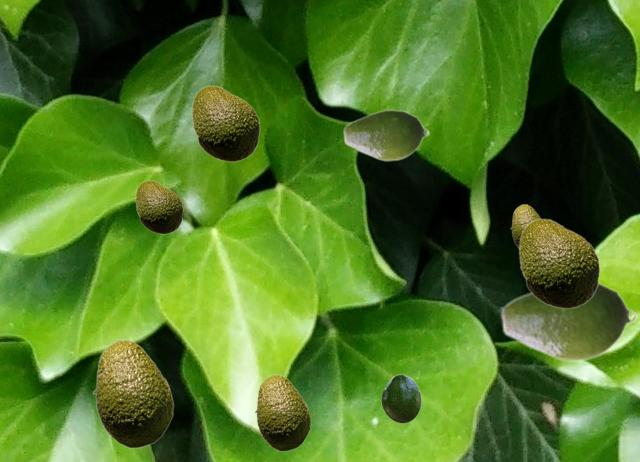avocado: (499, 281, 637, 362), (92, 339, 173, 447), (518, 218, 599, 308), (191, 85, 259, 161), (342, 108, 429, 161), (254, 374, 310, 450), (135, 180, 182, 233), (381, 374, 420, 422), (510, 204, 540, 247)
